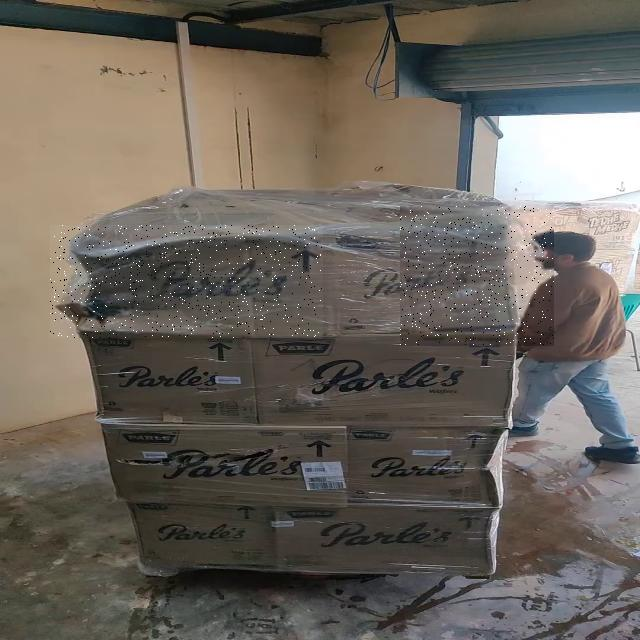squeeze: (50, 225, 322, 338), (400, 206, 554, 345)
